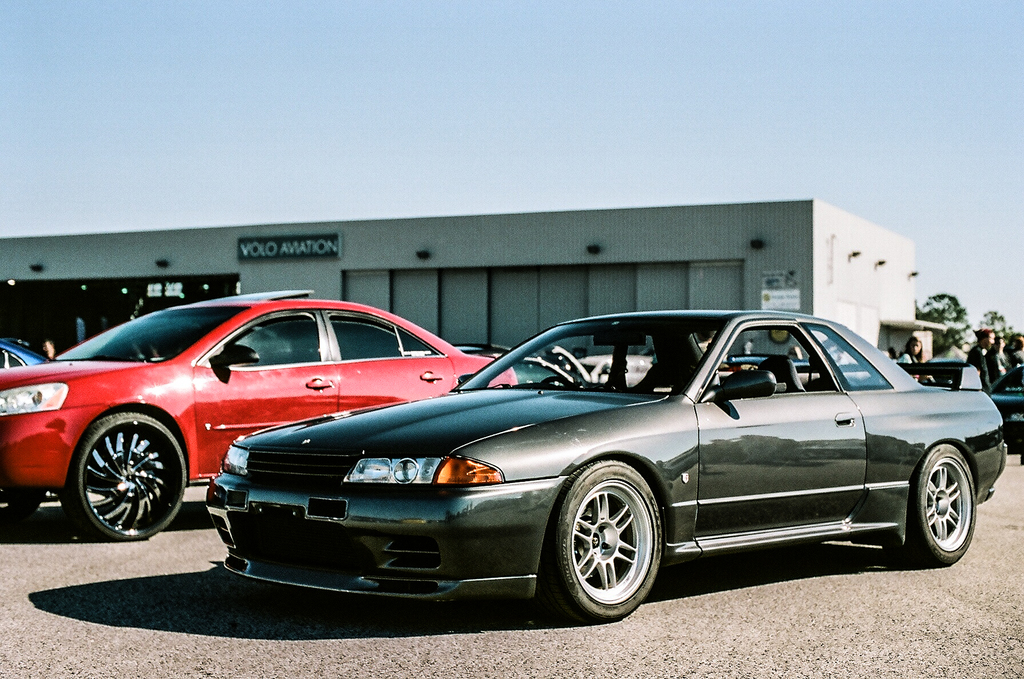Car: (199, 303, 1012, 622), (0, 293, 512, 539), (0, 339, 46, 373)
